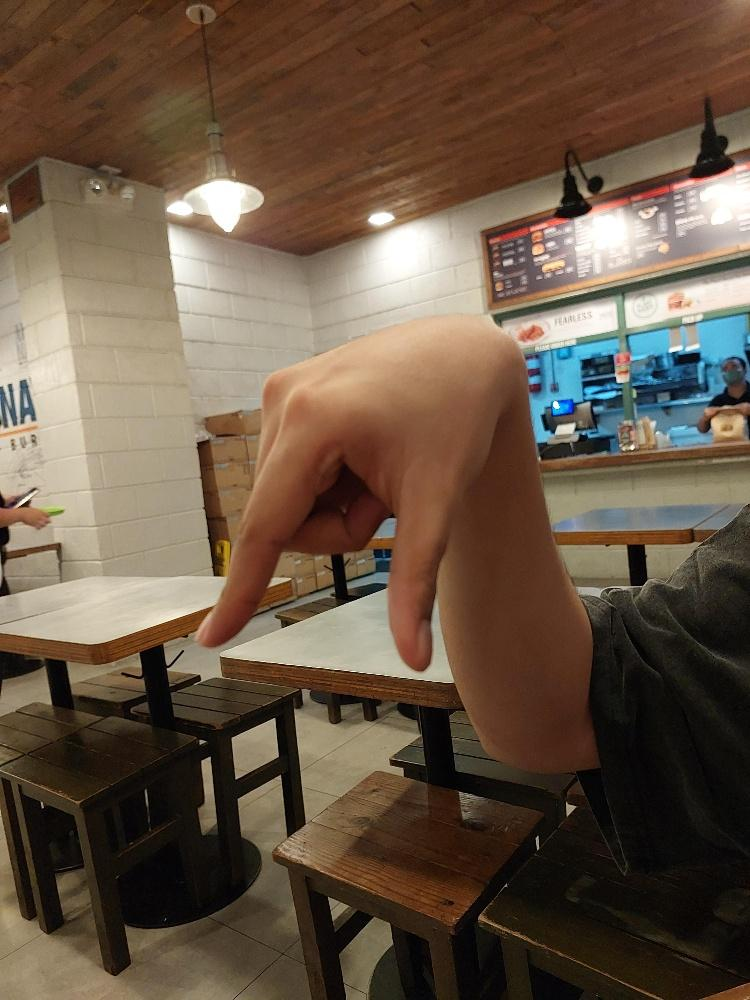q: (193, 309, 498, 671)
